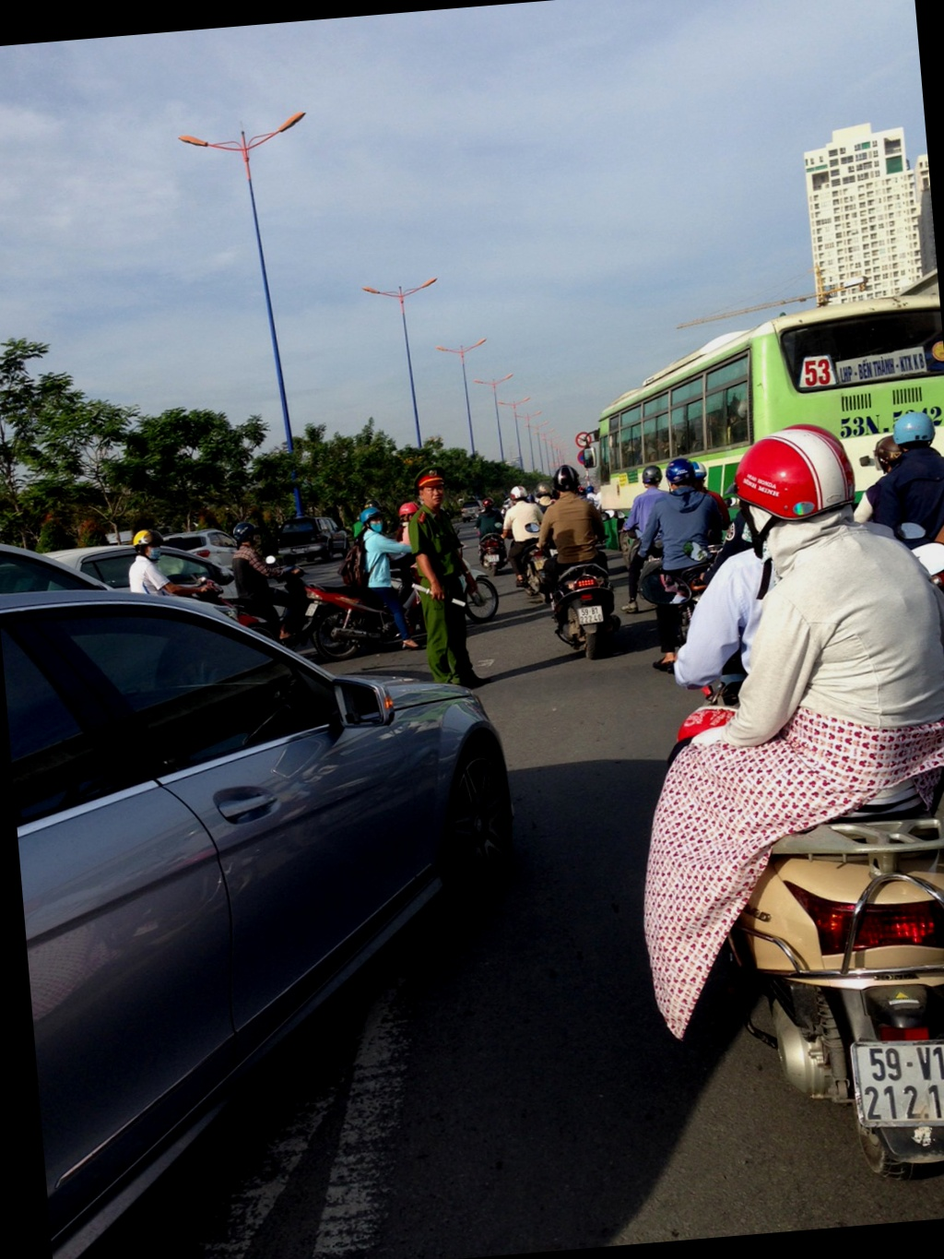Bien-so: (804, 1080, 920, 1172), (565, 609, 592, 635)
